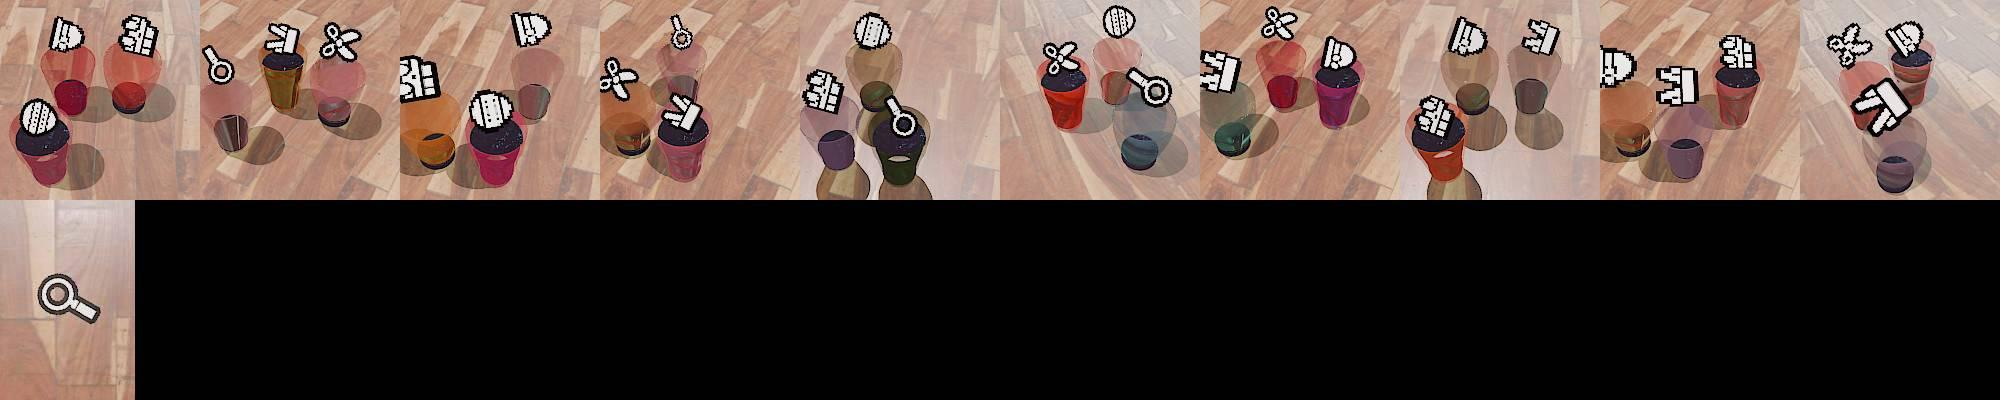icon: (1850, 77, 1913, 138), (37, 271, 103, 325), (1827, 23, 1875, 68), (1125, 66, 1174, 110), (802, 67, 844, 115), (398, 55, 440, 103), (467, 89, 515, 130), (1655, 64, 1700, 107), (1415, 93, 1456, 138), (119, 13, 159, 59), (320, 21, 363, 63), (1447, 15, 1488, 58), (600, 57, 640, 101), (1201, 48, 1239, 94), (664, 91, 705, 132), (1884, 21, 1926, 61), (883, 93, 919, 139), (1522, 17, 1562, 58), (19, 99, 59, 139), (853, 11, 893, 50), (511, 11, 551, 49), (1601, 47, 1637, 89), (1718, 34, 1757, 72), (1319, 36, 1357, 73), (50, 16, 86, 55), (202, 43, 235, 85), (265, 21, 301, 58), (1042, 40, 1081, 73), (1262, 6, 1298, 40), (1103, 4, 1137, 39), (668, 14, 694, 52)
